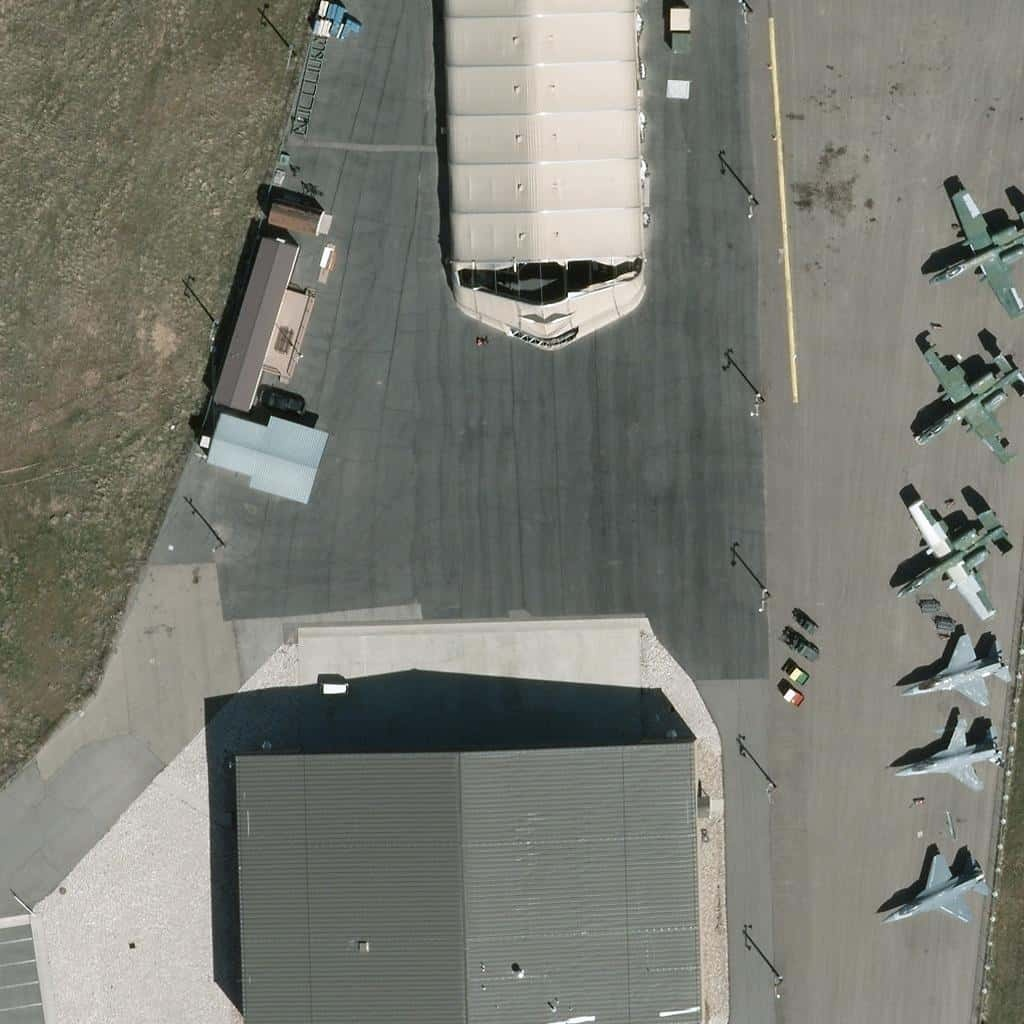plane: (891, 497, 1015, 621), (898, 337, 1022, 461), (927, 189, 1024, 314), (879, 850, 992, 928), (893, 712, 1006, 790), (899, 633, 1012, 711)
